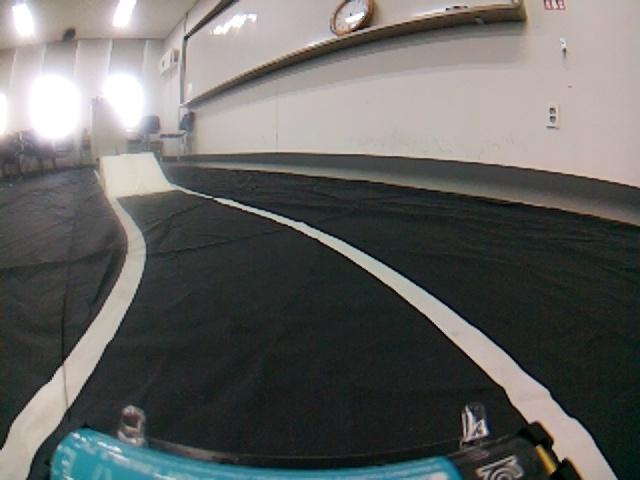straight: (6, 213, 640, 475)
